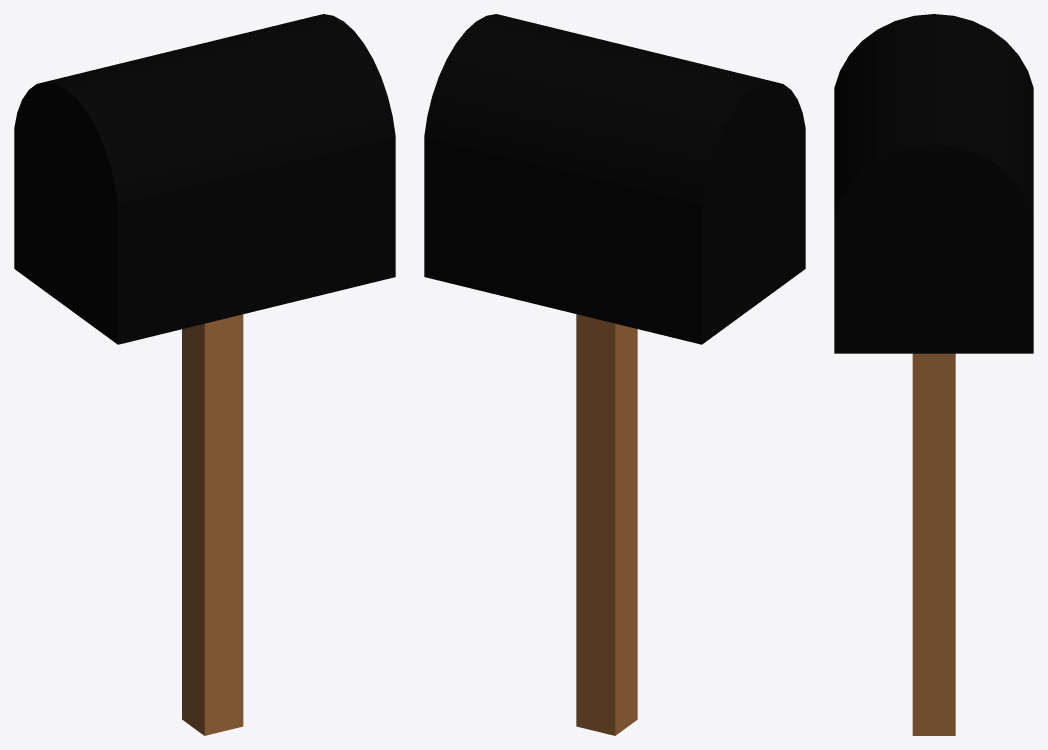
File: schranka pink.fbx
3 renders of one model, left to right at view 1: azimuth 30°, elevation 25°; view 2: azimuth 150°, elevation 25°; view 3: azimuth 270°, elevation 25°, orthographic. The views are drawn at different scales.
Visible parts, largest first — view 1: Cylinder, Cylinder.001, Cube; view 2: Cylinder, Cylinder.001, Cube; view 3: Cylinder, Cube, Cylinder.001.
Part boxes in pixels (box(x1,y1,x2,y2)): Cylinder: box(64, 14, 395, 340); Cylinder.001: box(14, 77, 136, 344); Cube: box(182, 314, 243, 735); Cylinder: box(424, 14, 755, 340); Cylinder.001: box(684, 77, 805, 344); Cube: box(576, 314, 637, 735); Cylinder: box(834, 22, 1033, 353); Cube: box(912, 353, 955, 735); Cylinder.001: box(834, 14, 1033, 95).
Size of the model in its own units: 2485 by 5724 by 1608.
